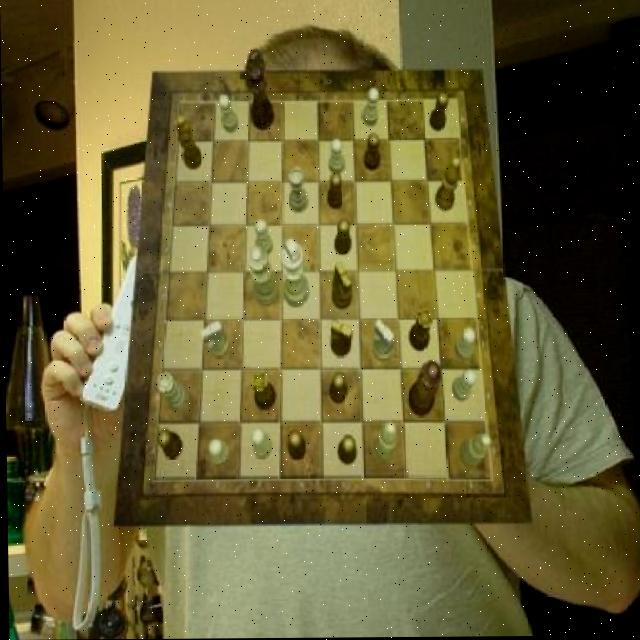bishop: (175, 114, 202, 169), (433, 159, 460, 213)
black-bishop: (244, 49, 272, 132)
black-king: (330, 263, 352, 310), (328, 320, 352, 357)
black-knight: (427, 93, 448, 131), (156, 428, 181, 459), (333, 219, 351, 256), (362, 133, 379, 171), (325, 174, 342, 210), (337, 435, 356, 466), (328, 372, 346, 404), (286, 429, 304, 460)
black-pawn: (406, 362, 440, 418)
black-queen: (408, 310, 432, 352), (250, 372, 274, 411)
black-rook: (456, 434, 489, 469), (372, 422, 396, 462)
white-bishop: (280, 238, 308, 309)
white-king: (198, 322, 229, 361), (370, 319, 394, 363)
white-knight: (451, 368, 475, 402), (452, 328, 474, 362), (248, 428, 270, 460), (219, 95, 237, 134), (254, 220, 272, 258), (361, 89, 379, 127), (207, 439, 230, 467), (328, 140, 345, 174)
white-pawn: (246, 248, 279, 306)
white-queen: (156, 373, 186, 411), (286, 167, 307, 213)
